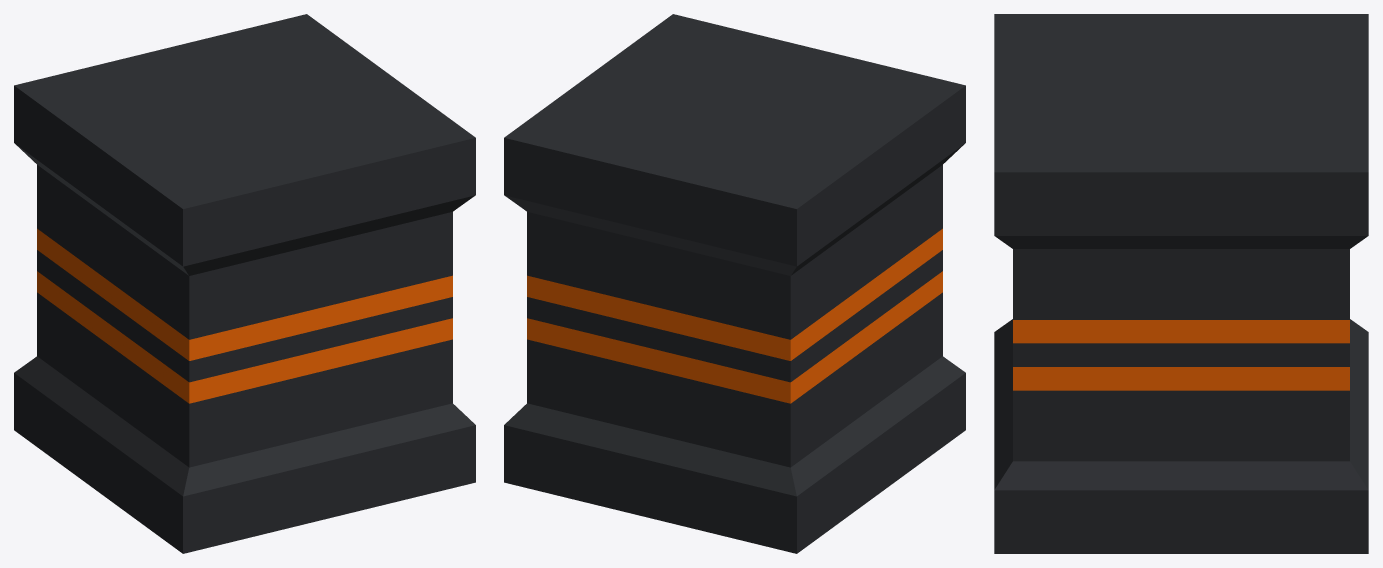
File: Wall_2x2_Corner_Full.fbx
3 views of the same model, side by side, from view 1: azimuth 30°, elevation 25°; view 2: azimuth 150°, elevation 25°; view 3: azimuth 270°, elevation 25° (orthographic). The views are drawn at different scales.
Visible parts, largest first — view 1: Wall_2x2_Corner_Full; view 2: Wall_2x2_Corner_Full; view 3: Wall_2x2_Corner_Full.
Part boxes in pixels (x1=…): Wall_2x2_Corner_Full: x1=14, y1=14, x2=475, y2=553; Wall_2x2_Corner_Full: x1=504, y1=14, x2=965, y2=553; Wall_2x2_Corner_Full: x1=994, y1=14, x2=1368, y2=553.
Size of the model in its own units: 200 by 225 by 200.
